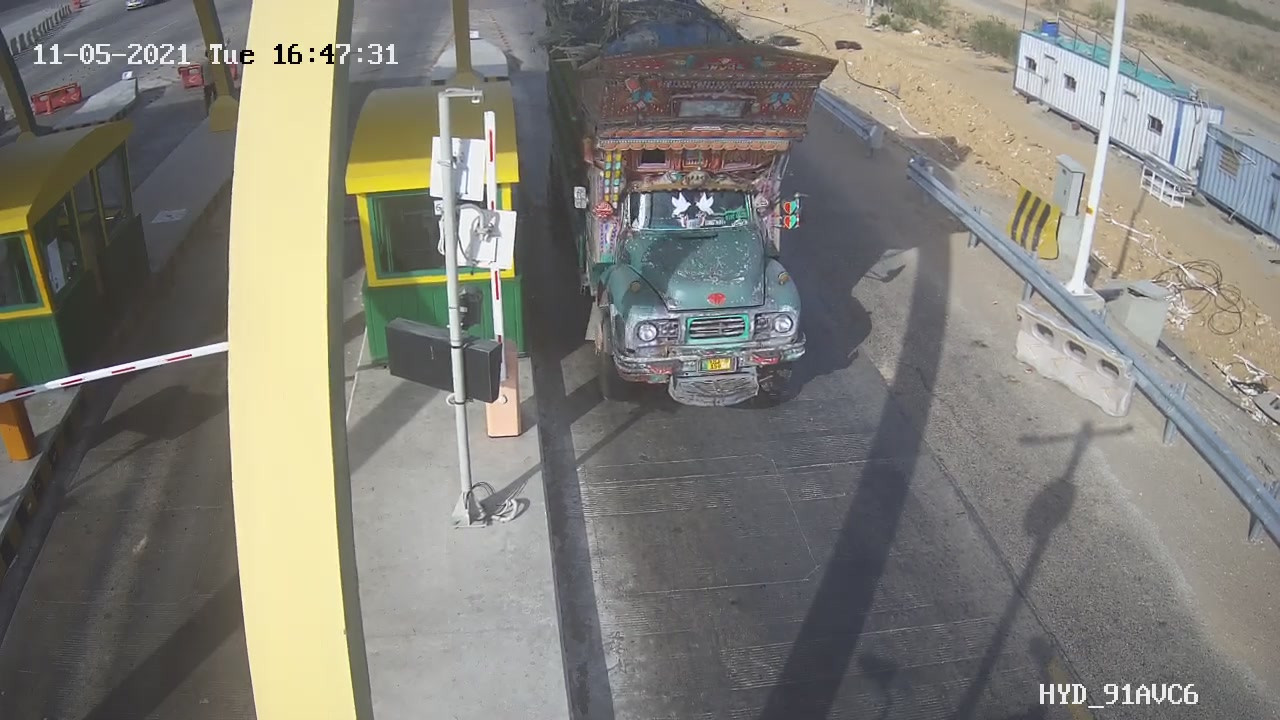F5: (526, 3, 864, 430)
